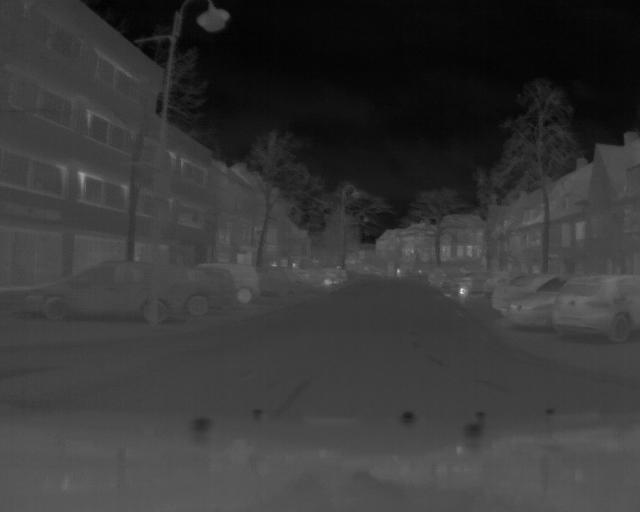car: (21, 257, 184, 328), (551, 272, 640, 340), (439, 270, 498, 299)
